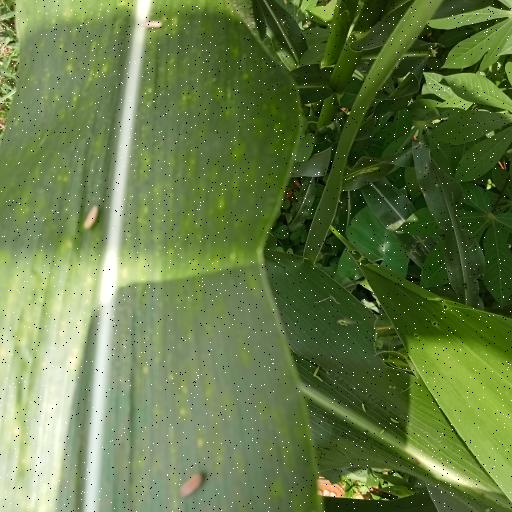Corn_Brown_Spots: (0, 0, 286, 512)
